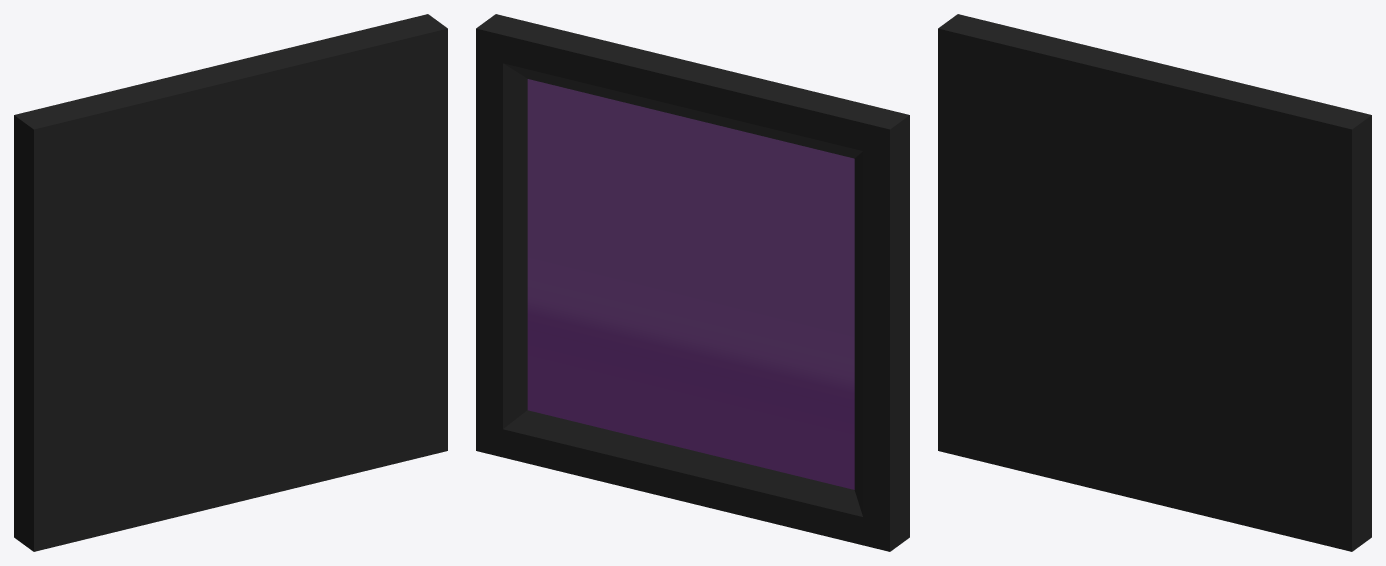
File: tranh1.fbx
3 views of the same model, side by side, from view 1: azimuth 30°, elevation 25°; view 2: azimuth 150°, elevation 25°; view 3: azimuth 330°, elevation 25° (orthographic).
Visible parts, largest first — view 1: tranh1; view 2: tranh1; view 3: tranh1.
Boxes of the visible parts, x1,y1,x2,y2 form: tranh1: [14, 14, 447, 551]; tranh1: [476, 14, 909, 551]; tranh1: [938, 14, 1371, 551].
Size of the model in its own units: 178 by 174 by 14.76.
